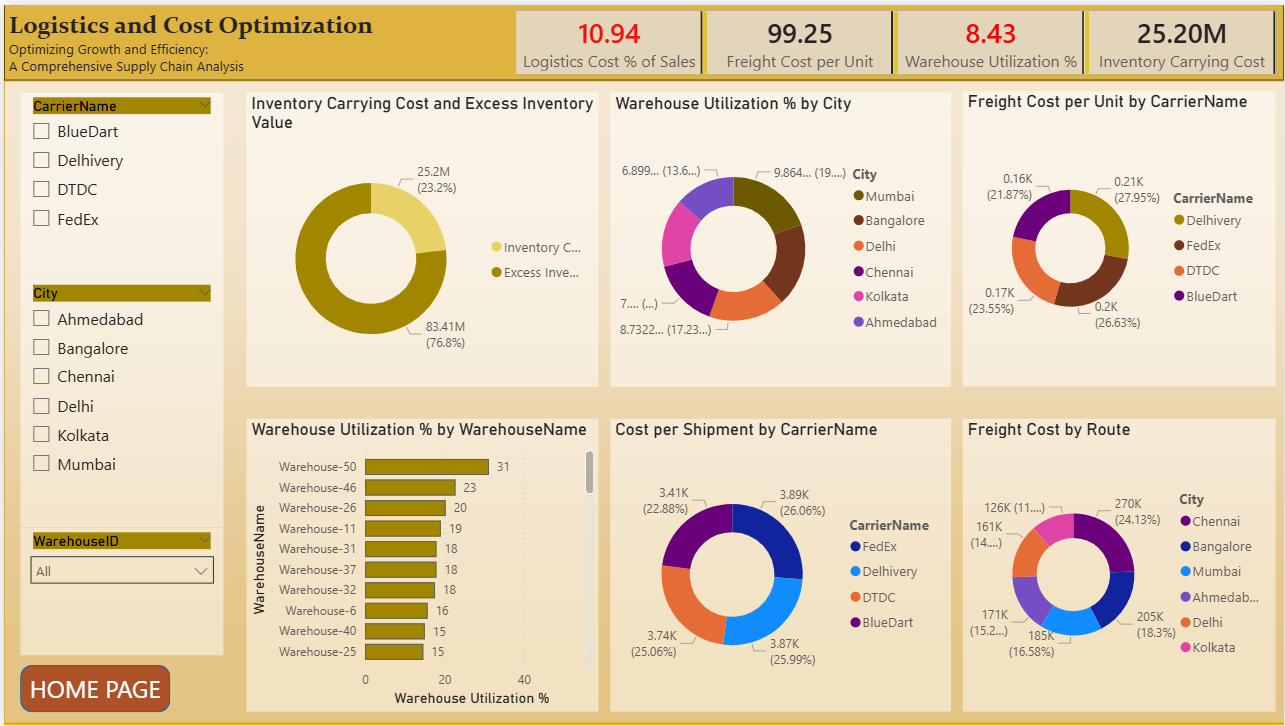

The page's visual inventory and layout, read from the dashboard file:
{"tool":"powerbi","page":{"name":"Logistics and Cost Optimization","canvas":[1280,720],"ordinal":4},"visuals":[{"type":"textbox","box":[0,0,1280,75],"z":0},{"type":"shape","box":[15.7,660,150,47.1],"z":1000},{"type":"cardVisual","fields":{"Data":["DelayReason.Logistics Cost % of Sales","DelayReason.Freight Cost per Unit","DelayReason.Warehouse Utilization %","DelayReason.Inventory Carrying Cost"]},"box":[505.7,0,774.3,75.7],"z":2000},{"type":"donutChart","fields":{"Category":["Fact_Shipments.CarrierName"],"Y":["DelayReason.Freight Cost per Unit"]},"box":[958.9,86.8,312.6,295.3],"z":3000},{"type":"donutChart","fields":{"Category":["Dim_Warehouse.City"],"Y":["DelayReason.Warehouse Utilization %"]},"box":[606.6,88.1,341.2,294],"z":4000},{"type":"donutChart","fields":{"Y":["DelayReason.Inventory Carrying Cost","DelayReason.Excess Inventory Value"]},"box":[241.9,88.1,352.3,294],"z":5000},{"type":"donutChart","title":"Freight Cost by Route","fields":{"Category":["Dim_Warehouse.City"],"Y":["Sum(DelayReason.FreightCost)"]},"box":[958.9,414.3,312.6,292.8],"z":6000},{"type":"donutChart","fields":{"Category":["Fact_Shipments.CarrierName"],"Y":["DelayReason.Cost per Shipment"]},"box":[606.6,414.3,341.2,292.8],"z":7000},{"type":"clusteredBarChart","fields":{"Y":["DelayReason.Warehouse Utilization %"],"Category":["Dim_Warehouse.WarehouseName"]},"box":[241.9,414.3,352.3,292.8],"z":8000},{"type":"slicer","fields":{"Values":["Fact_Shipments.CarrierName"]},"box":[16.1,88.1,203.5,187.3],"z":9000},{"type":"slicer","fields":{"Values":["Dim_Warehouse.City"]},"box":[16.1,275.4,203.5,246.9],"z":10000},{"type":"slicer","fields":{"Values":["Fact_SalesOrders.WarehouseID"]},"box":[16.1,522.3,203.5,127.8],"z":11000}]}

Visuals, with their boxes in screenshot pixels (x1, y1, x2, y2), scaled from the page's 1280x720 canvas onto the 1285x726 screenshot:
textbox: (x1=0, y1=0, x2=1284, y2=76)
shape: (x1=16, y1=666, x2=166, y2=713)
cardVisual - DelayReason.Logistics Cost % of Sales x DelayReason.Freight Cost per Unit: (x1=508, y1=0, x2=1284, y2=76)
donutChart - Fact_Shipments.CarrierName x DelayReason.Freight Cost per Unit: (x1=963, y1=88, x2=1276, y2=385)
donutChart - Dim_Warehouse.City x DelayReason.Warehouse Utilization %: (x1=609, y1=89, x2=952, y2=385)
donutChart - DelayReason.Inventory Carrying Cost x DelayReason.Excess Inventory Value: (x1=243, y1=89, x2=597, y2=385)
"Freight Cost by Route" donutChart: (x1=963, y1=418, x2=1276, y2=713)
donutChart - Fact_Shipments.CarrierName x DelayReason.Cost per Shipment: (x1=609, y1=418, x2=952, y2=713)
clusteredBarChart - DelayReason.Warehouse Utilization % x Dim_Warehouse.WarehouseName: (x1=243, y1=418, x2=597, y2=713)
slicer - Fact_Shipments.CarrierName: (x1=16, y1=89, x2=220, y2=278)
slicer - Dim_Warehouse.City: (x1=16, y1=278, x2=220, y2=527)
slicer - Fact_SalesOrders.WarehouseID: (x1=16, y1=527, x2=220, y2=656)
